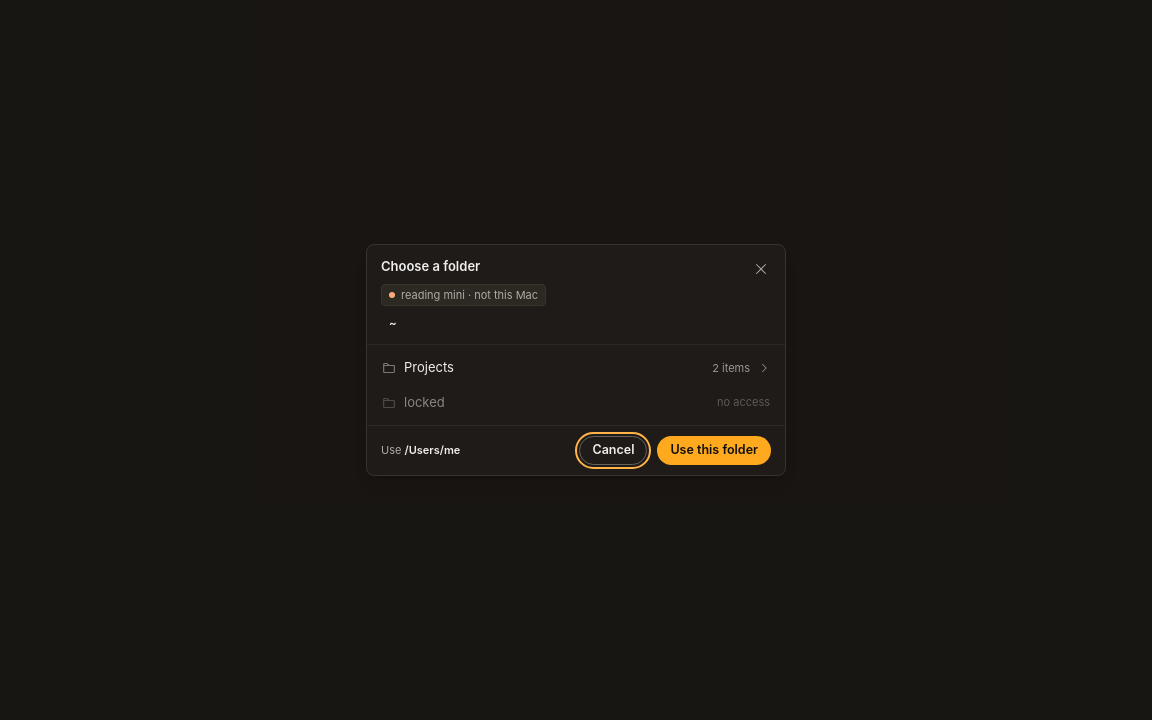
Test: DirectoryPicker › shows a refusal without closing, keeping the last good listing
Click the button "Projects 2 items": (429,367) [373,351,779,385]
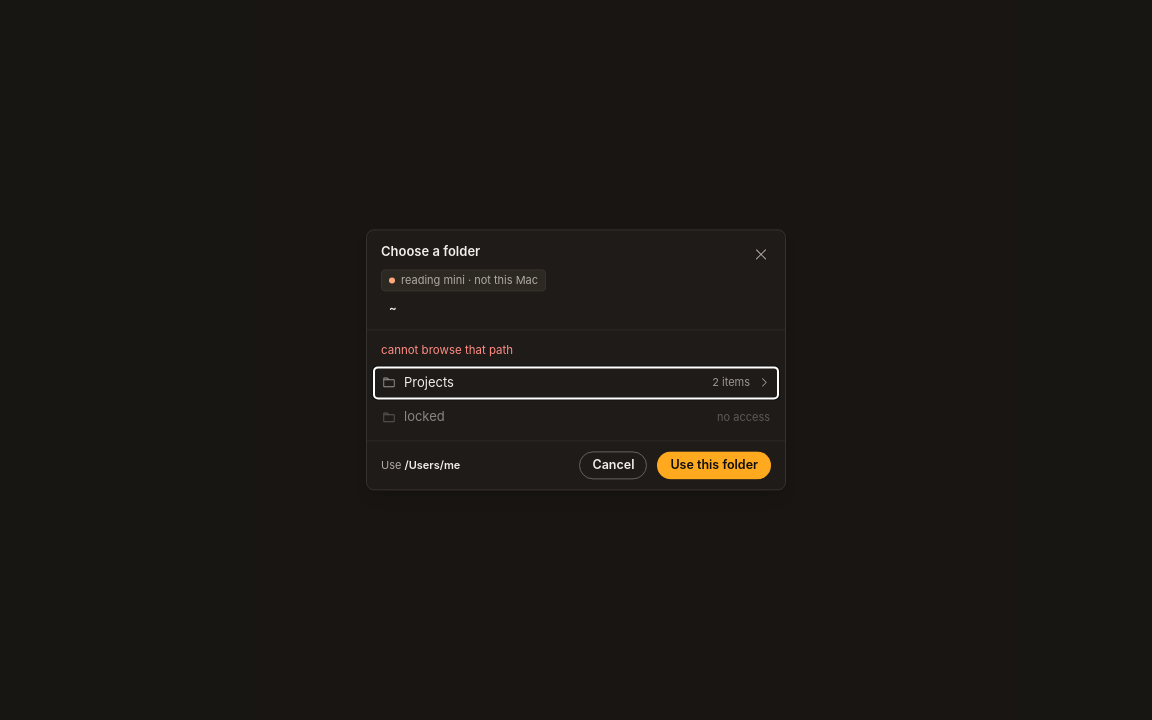
Expected: the button "Projects 2 items" is shown, [373,366,779,399]
Expected: the text "cannot browse that path" is shown, [381,344,513,358]
